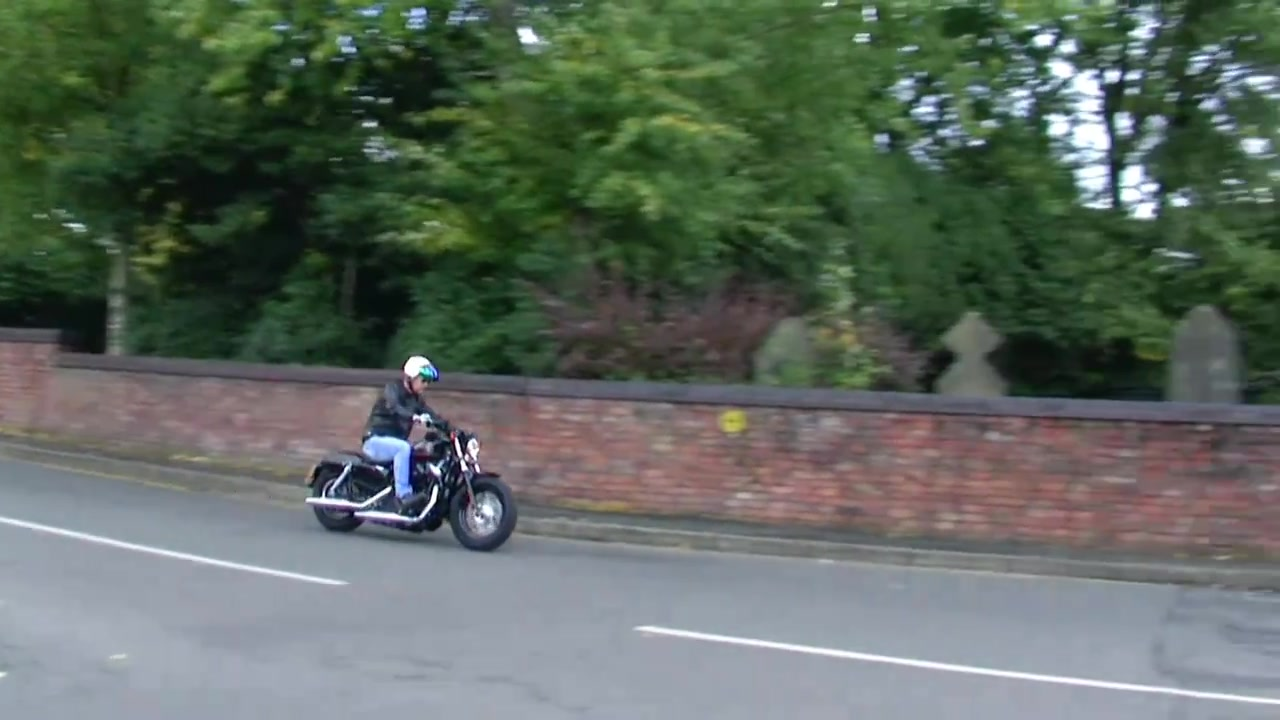motorbike: (307, 418, 519, 554)
